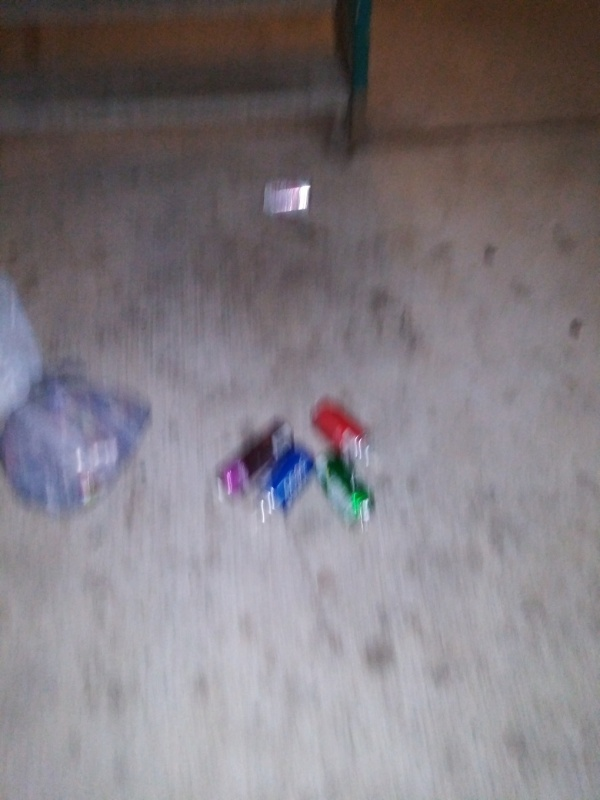can: (213, 421, 299, 508), (256, 440, 321, 520), (310, 454, 381, 525), (306, 398, 376, 464), (262, 174, 316, 220)
